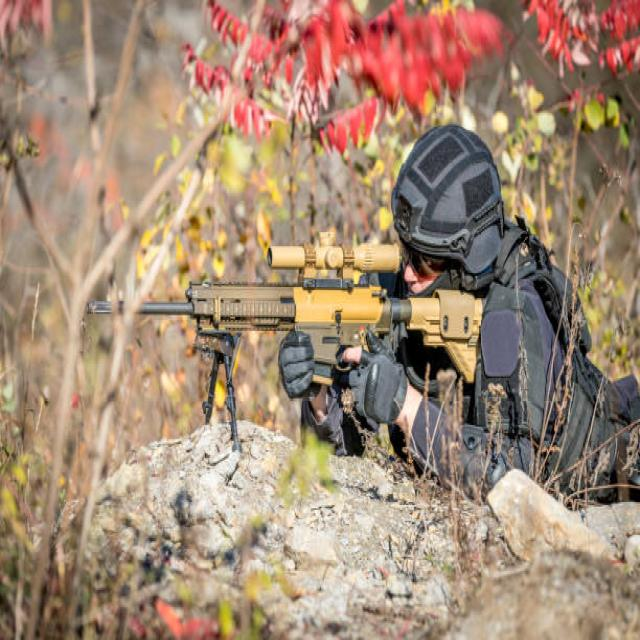soldier: (89, 124, 640, 513)
